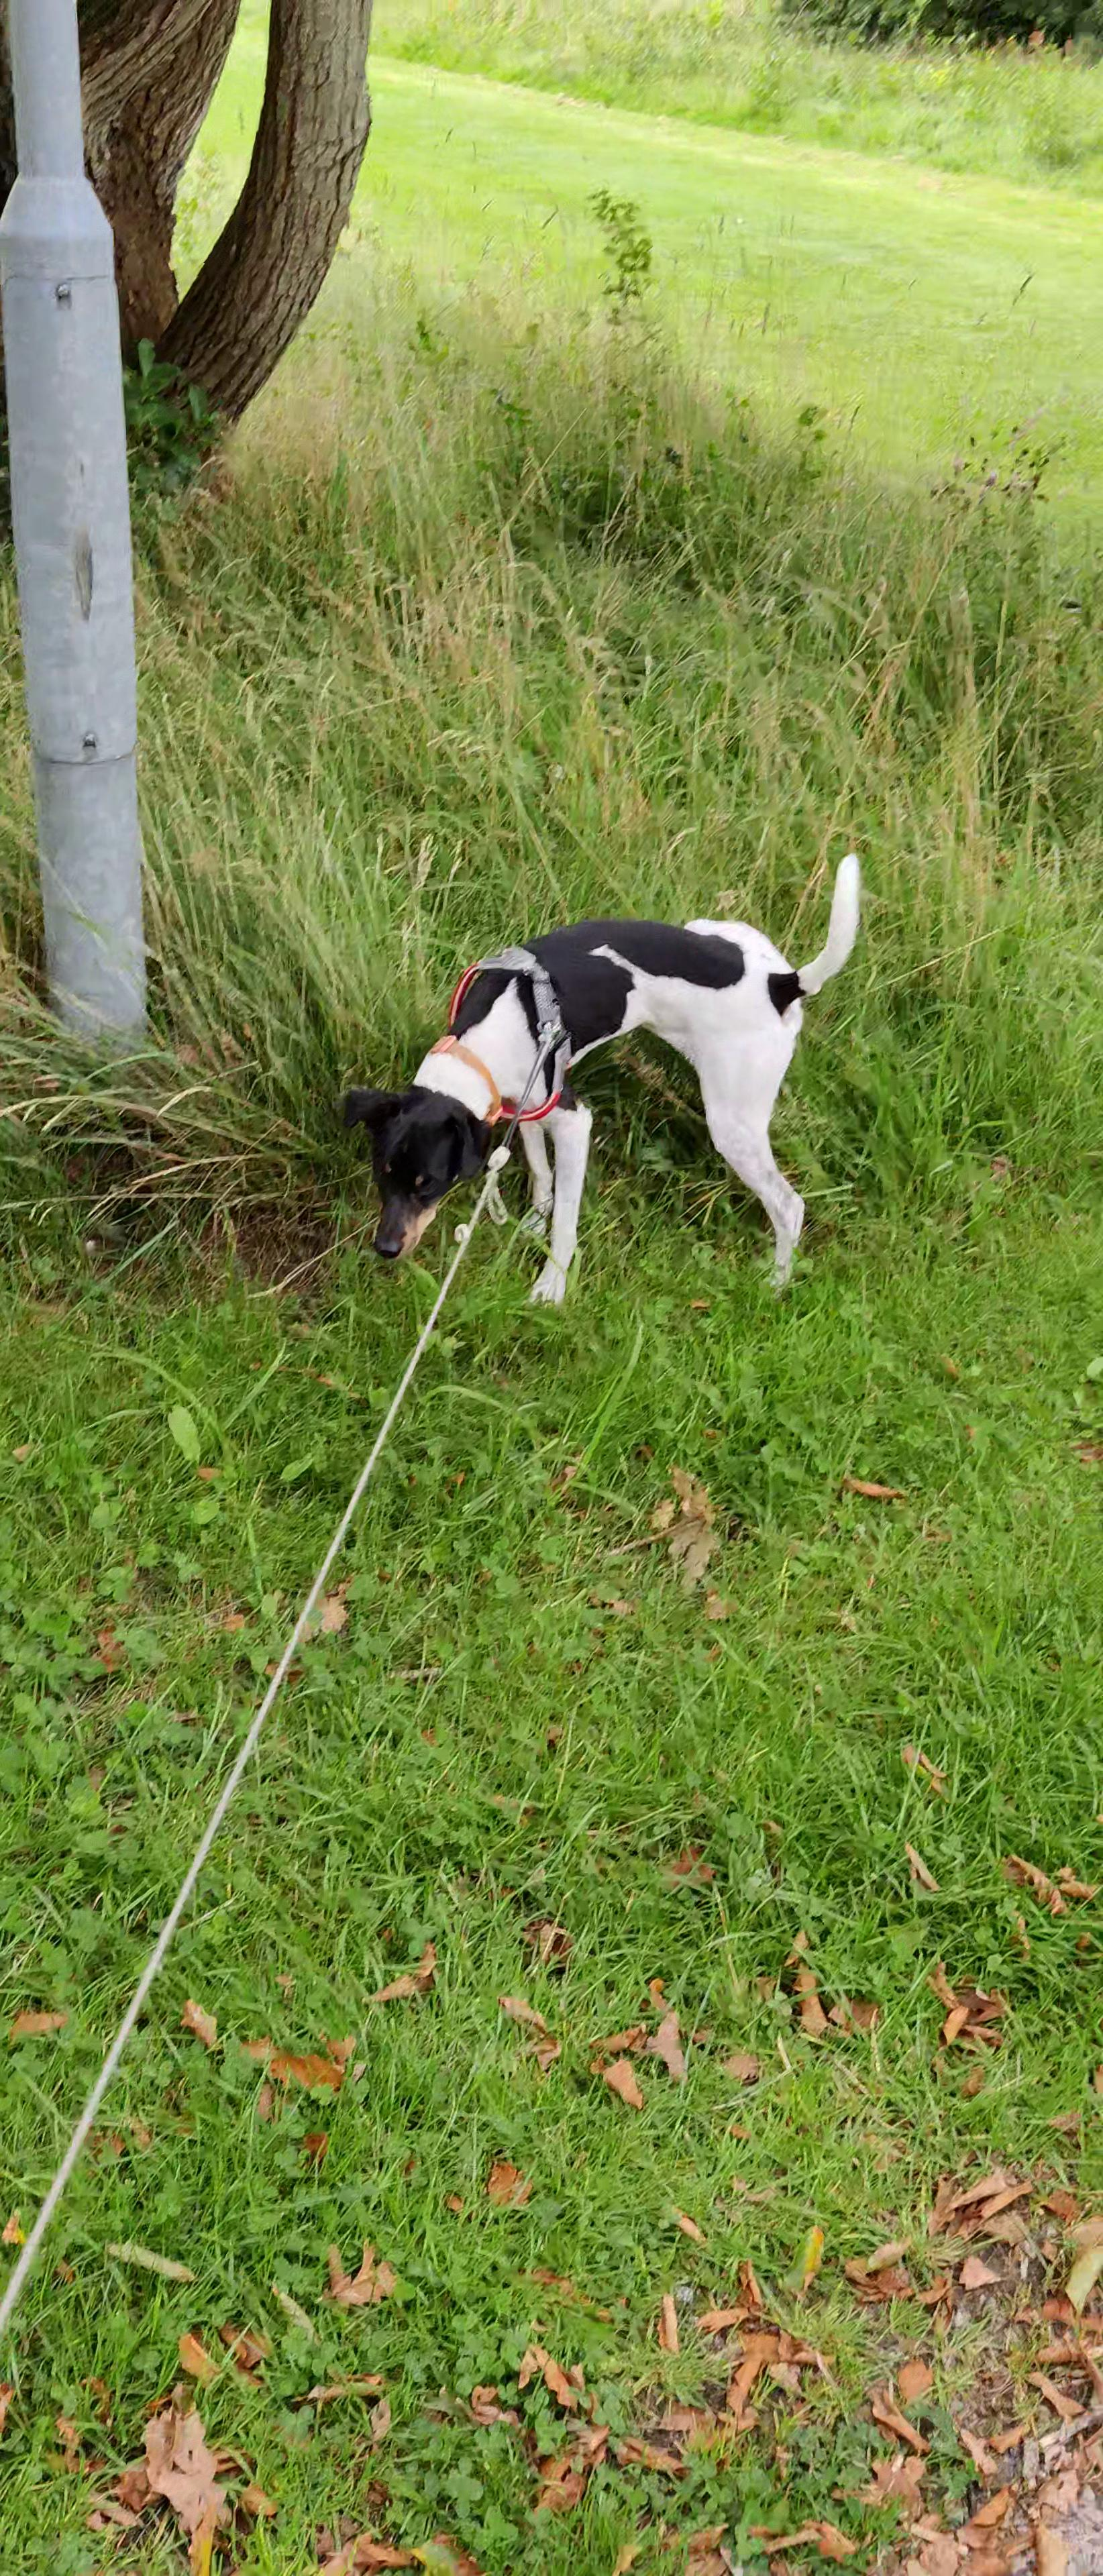Dog: (311, 821, 884, 1327)
